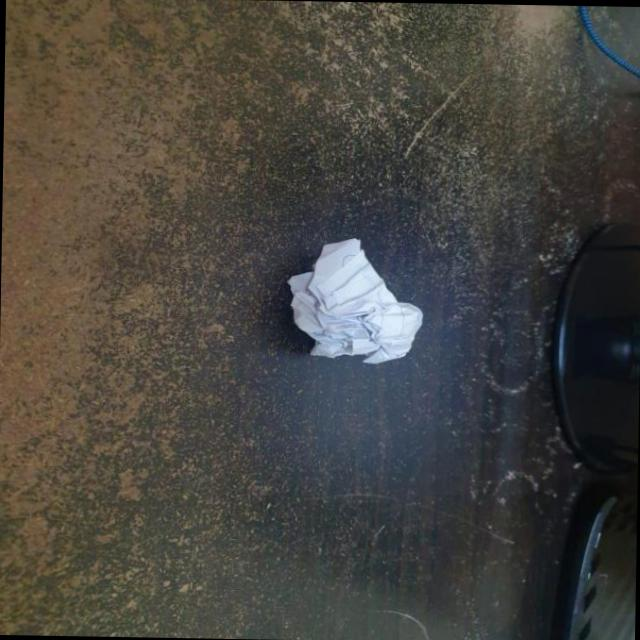cardboard paper: (290, 240, 423, 363)
